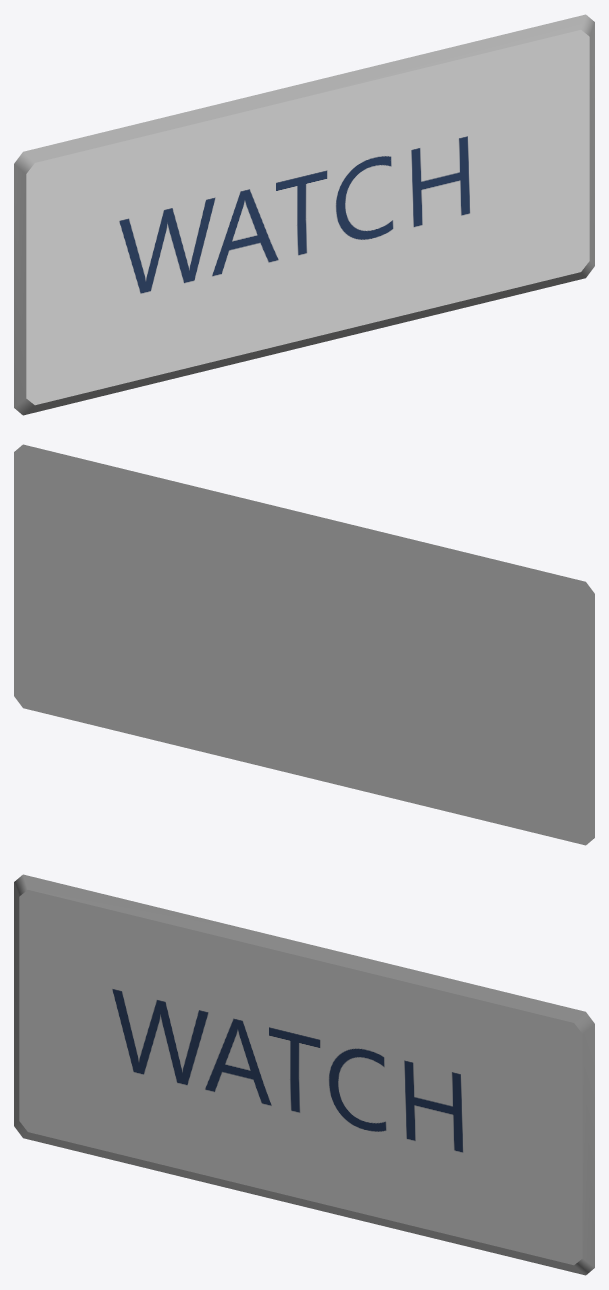
Rendered from Watch.fbx.
3 views of the same model, one above another, from view 1: azimuth 30°, elevation 25°; view 2: azimuth 150°, elevation 25°; view 3: azimuth 330°, elevation 25° (orthographic).
Visible parts, largest first — view 1: Watch; view 2: Watch; view 3: Watch.
Part boxes in pixels (x1,y1,x2,y2): Watch: (14,14,594,415); Watch: (14,444,594,845); Watch: (14,874,594,1275).
Size of the model in its own units: 1 by 0.4342 by 0.0104.
Materials: 2 (1 with a texture image).
